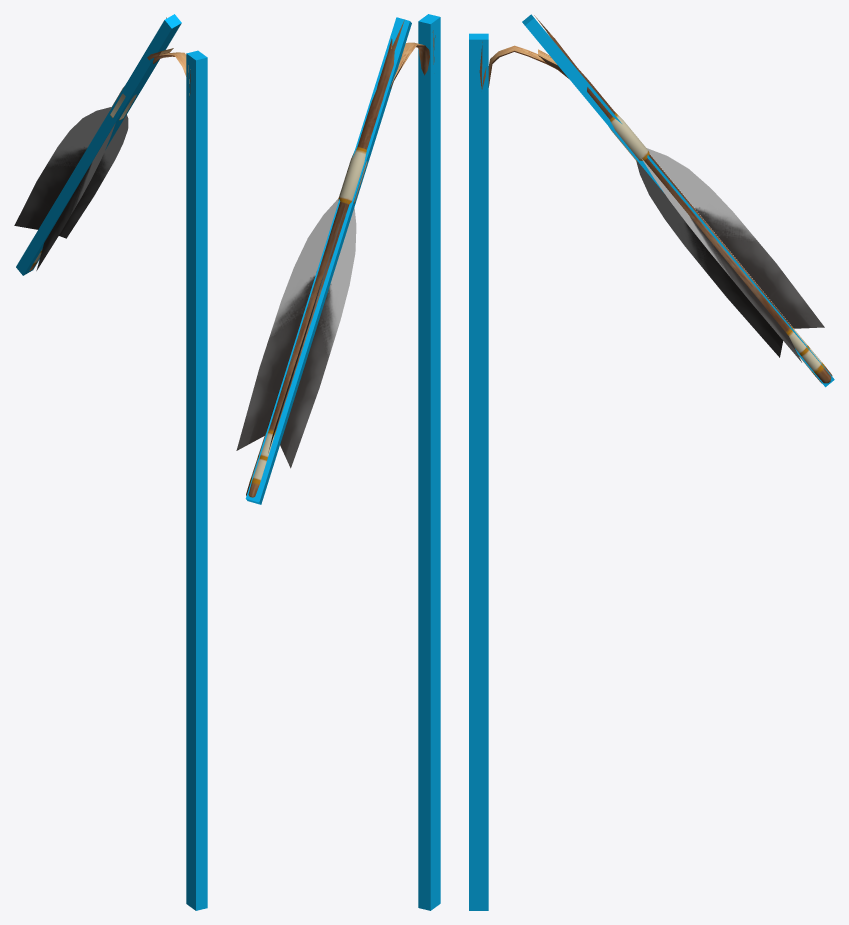
The model's file is JWC_Arrow_A_06.fbx.
3 views of the same model, side by side, from view 1: azimuth 30°, elevation 25°; view 2: azimuth 150°, elevation 25°; view 3: azimuth 270°, elevation 25° (orthographic). The views are drawn at different scales.
Visible parts, largest first — view 1: C_JWC_Arrow_A_06, JWC_Arrow_A_06, C_JWC_Arrow_A_06_001; view 2: C_JWC_Arrow_A_06, JWC_Arrow_A_06, C_JWC_Arrow_A_06_001; view 3: C_JWC_Arrow_A_06, JWC_Arrow_A_06, C_JWC_Arrow_A_06_001.
Part boxes in pixels (left/top/right/bottom): C_JWC_Arrow_A_06: left=186, top=50, right=207, bottom=910; JWC_Arrow_A_06: left=14, top=17, right=190, bottom=270; C_JWC_Arrow_A_06_001: left=16, top=14, right=181, bottom=275; C_JWC_Arrow_A_06: left=418, top=14, right=440, bottom=910; JWC_Arrow_A_06: left=236, top=20, right=435, bottom=497; C_JWC_Arrow_A_06_001: left=245, top=17, right=411, bottom=504; C_JWC_Arrow_A_06: left=469, top=33, right=488, bottom=910; JWC_Arrow_A_06: left=479, top=15, right=832, bottom=383; C_JWC_Arrow_A_06_001: left=522, top=14, right=834, bottom=387.
Size of the model in its own units: 0.0394 by 0.7181 by 0.2667.
